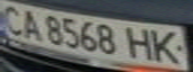5: (57, 16, 81, 50)
6: (78, 19, 100, 53)
8: (93, 21, 121, 56), (39, 12, 63, 46)
A: (18, 7, 45, 40)
C: (0, 2, 30, 36)
H: (124, 25, 157, 61)
K: (148, 27, 190, 65)
